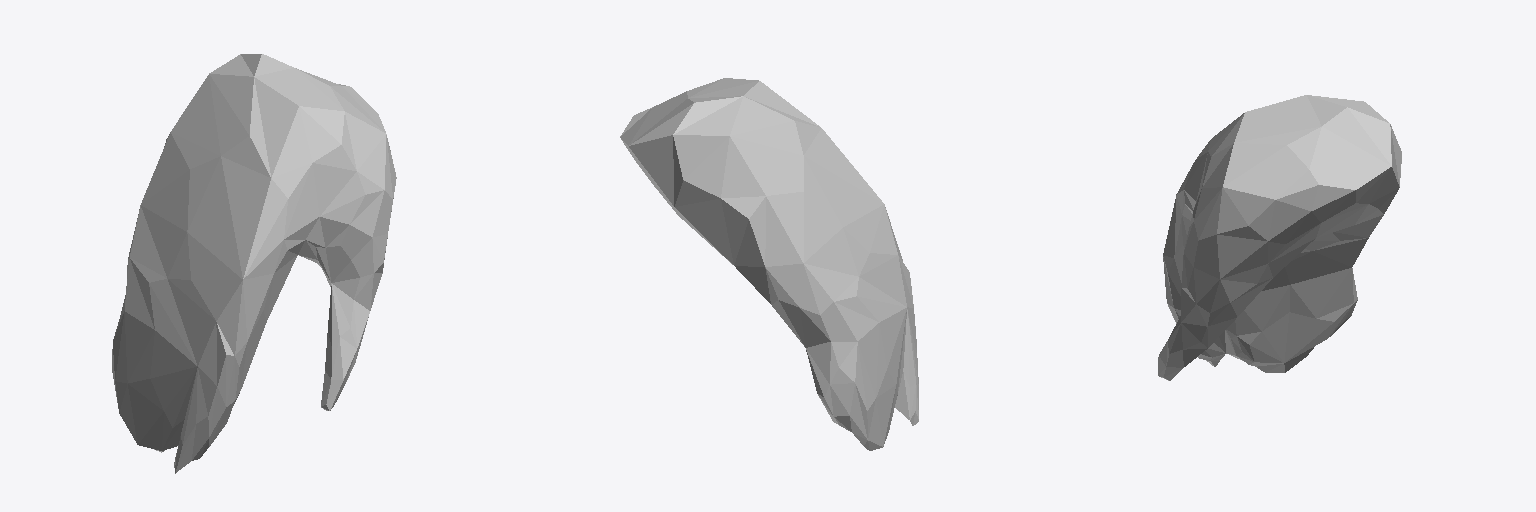
Rendered from p_hand.obj.
3 views of the same model, side by side, from view 1: azimuth 30°, elevation 25°; view 2: azimuth 150°, elevation 25°; view 3: azimuth 270°, elevation 25° (orthographic).
Visible parts, largest first — view 1: ct_gign.ct_gign_reference.smd.mesh_2.007_ct_gign.ct_gign_referen; view 2: ct_gign.ct_gign_reference.smd.mesh_2.007_ct_gign.ct_gign_referen; view 3: ct_gign.ct_gign_reference.smd.mesh_2.007_ct_gign.ct_gign_referen.
Part boxes in pixels (x1,y1,x2,y2): ct_gign.ct_gign_reference.smd.mesh_2.007_ct_gign.ct_gign_referen: (112, 54, 396, 473); ct_gign.ct_gign_reference.smd.mesh_2.007_ct_gign.ct_gign_referen: (620, 78, 918, 450); ct_gign.ct_gign_reference.smd.mesh_2.007_ct_gign.ct_gign_referen: (1158, 95, 1401, 380).
Bounding box in the file's own units: 5.45 × 7.3 × 4.81.